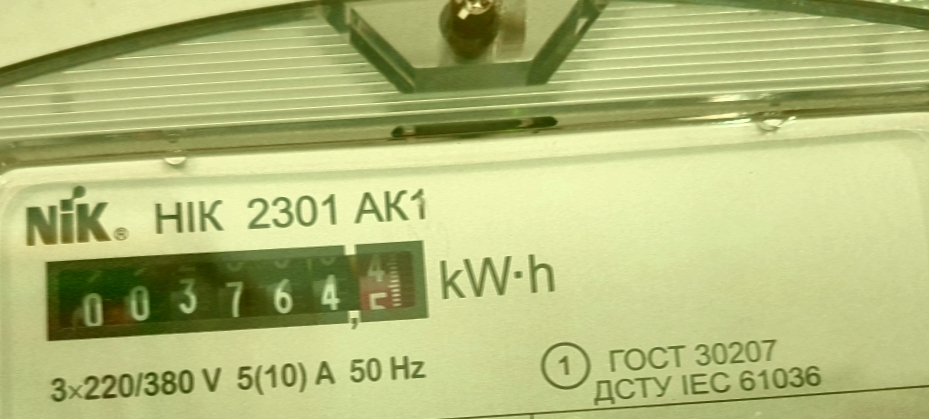0: (80, 289, 106, 328), (127, 282, 151, 323)
3: (175, 275, 200, 316)
4: (319, 272, 341, 312), (364, 251, 388, 284)
5: (366, 289, 390, 312)
6: (272, 276, 294, 315)
7: (223, 277, 248, 320)
screen: (28, 222, 444, 357)
